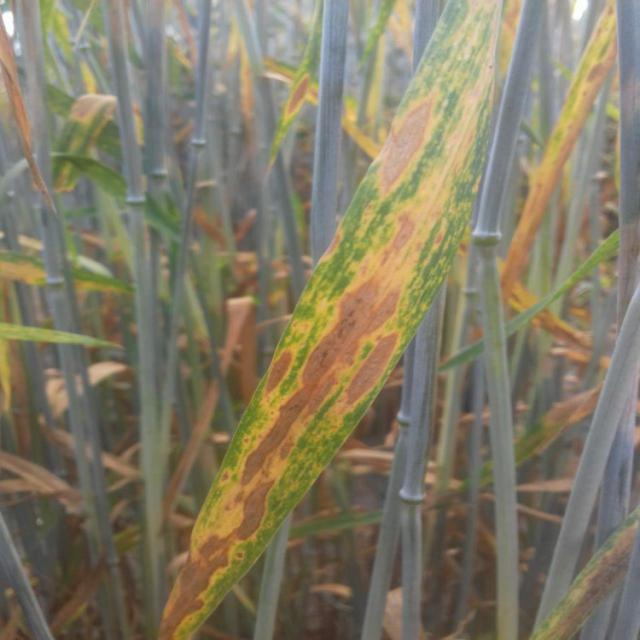wheat-septoria: (157, 0, 527, 640), (501, 0, 617, 289), (529, 524, 640, 640), (53, 94, 121, 195), (286, 1, 323, 119)
